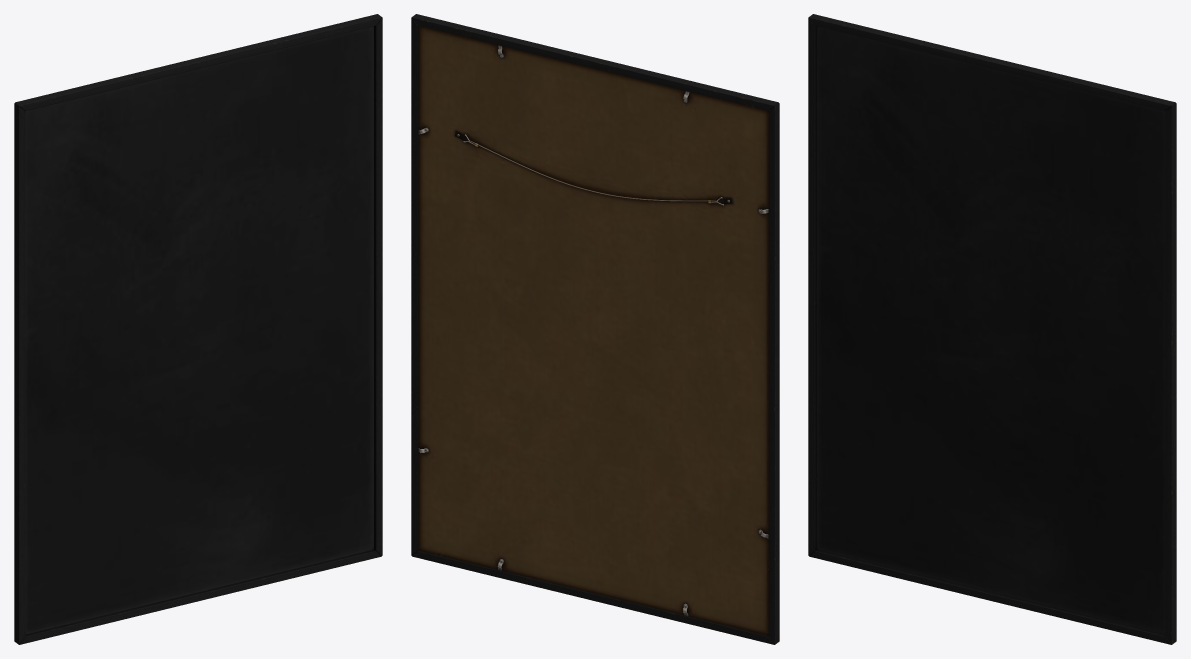
File: hanging_picture_frame_01.glb
3 renders of one model, left to right at view 1: azimuth 30°, elevation 25°; view 2: azimuth 150°, elevation 25°; view 3: azimuth 330°, elevation 25°, orthographic.
Parts seen in each view (by area): view 1: hanging_picture_frame_01; view 2: hanging_picture_frame_01; view 3: hanging_picture_frame_01.
Boxes of the visible parts, <box> form: hanging_picture_frame_01: <box>14,14,382,644</box>; hanging_picture_frame_01: <box>411,14,779,644</box>; hanging_picture_frame_01: <box>808,14,1176,644</box>.
Bounding box in the file's own units: 0.594 × 0.841 × 0.0157.
3 materials, 3 textured.
